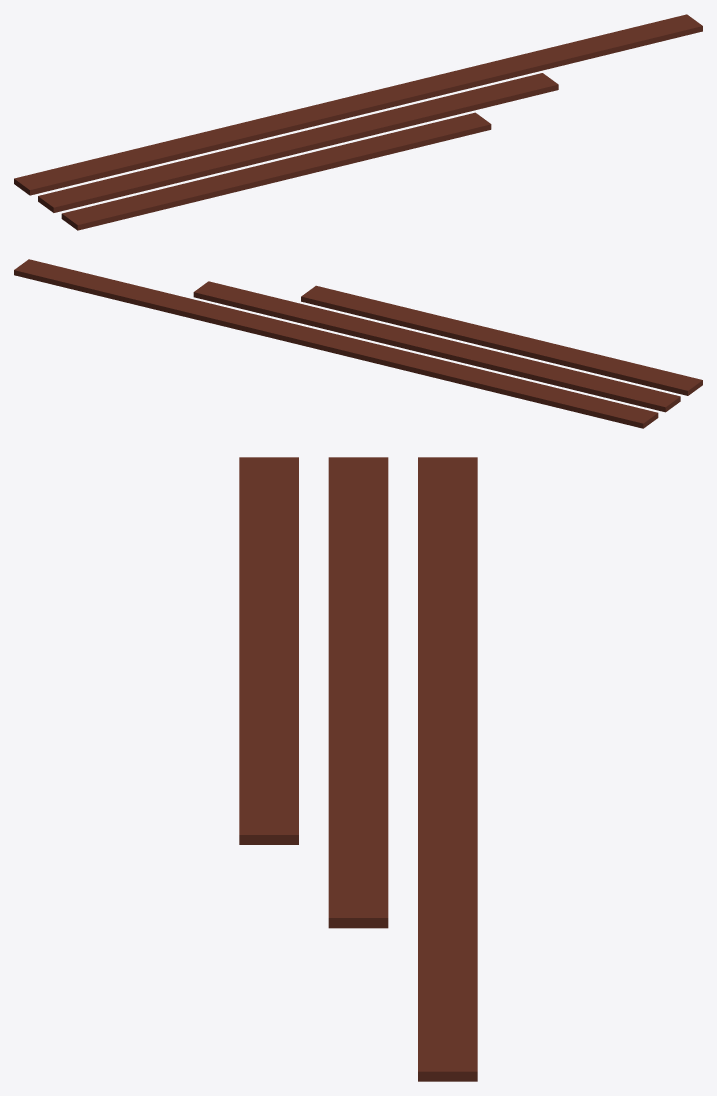
The model's file is deck-board-200x38_ipe_v0.1.dae.
3 renders of one model, top to bottom at view 1: azimuth 30°, elevation 25°; view 2: azimuth 150°, elevation 25°; view 3: azimuth 270°, elevation 25°, orthographic. The views are drawn at different scales.
Visible parts, largest first — view 1: deck-board-200x38_deck-board-200x38_ipe_4880mm, deck-board-200x38_deck-board-200x38_ipe_3660mm, deck-board-200x38_deck-board-200x38_ipe_3000mm; view 2: deck-board-200x38_deck-board-200x38_ipe_4880mm, deck-board-200x38_deck-board-200x38_ipe_3660mm, deck-board-200x38_deck-board-200x38_ipe_3000mm; view 3: deck-board-200x38_deck-board-200x38_ipe_4880mm, deck-board-200x38_deck-board-200x38_ipe_3660mm, deck-board-200x38_deck-board-200x38_ipe_3000mm.
Part boxes in pixels (<box>): deck-board-200x38_deck-board-200x38_ipe_4880mm: <box>14,14,702,195</box>; deck-board-200x38_deck-board-200x38_ipe_3660mm: <box>38,73,558,212</box>; deck-board-200x38_deck-board-200x38_ipe_3000mm: <box>61,112,491,230</box>; deck-board-200x38_deck-board-200x38_ipe_4880mm: <box>14,259,658,428</box>; deck-board-200x38_deck-board-200x38_ipe_3660mm: <box>193,281,680,412</box>; deck-board-200x38_deck-board-200x38_ipe_3000mm: <box>301,285,702,395</box>; deck-board-200x38_deck-board-200x38_ipe_4880mm: <box>418,457,477,1081</box>; deck-board-200x38_deck-board-200x38_ipe_3660mm: <box>328,457,388,928</box>; deck-board-200x38_deck-board-200x38_ipe_3000mm: <box>239,457,298,844</box>.
Size of the model in its own units: 4880 by 800 by 38.
